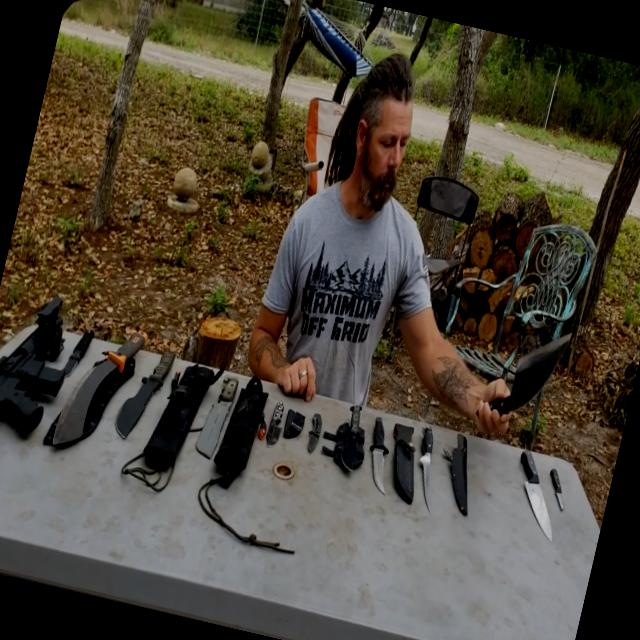knife: (42, 302, 156, 470), (472, 300, 580, 447), (105, 328, 178, 454), (498, 441, 578, 547), (190, 354, 243, 478), (350, 402, 408, 506), (397, 416, 454, 518), (330, 393, 370, 476), (258, 385, 296, 462), (55, 316, 102, 377), (538, 459, 579, 518), (299, 401, 329, 461)
long weapon: (0, 263, 108, 524)
